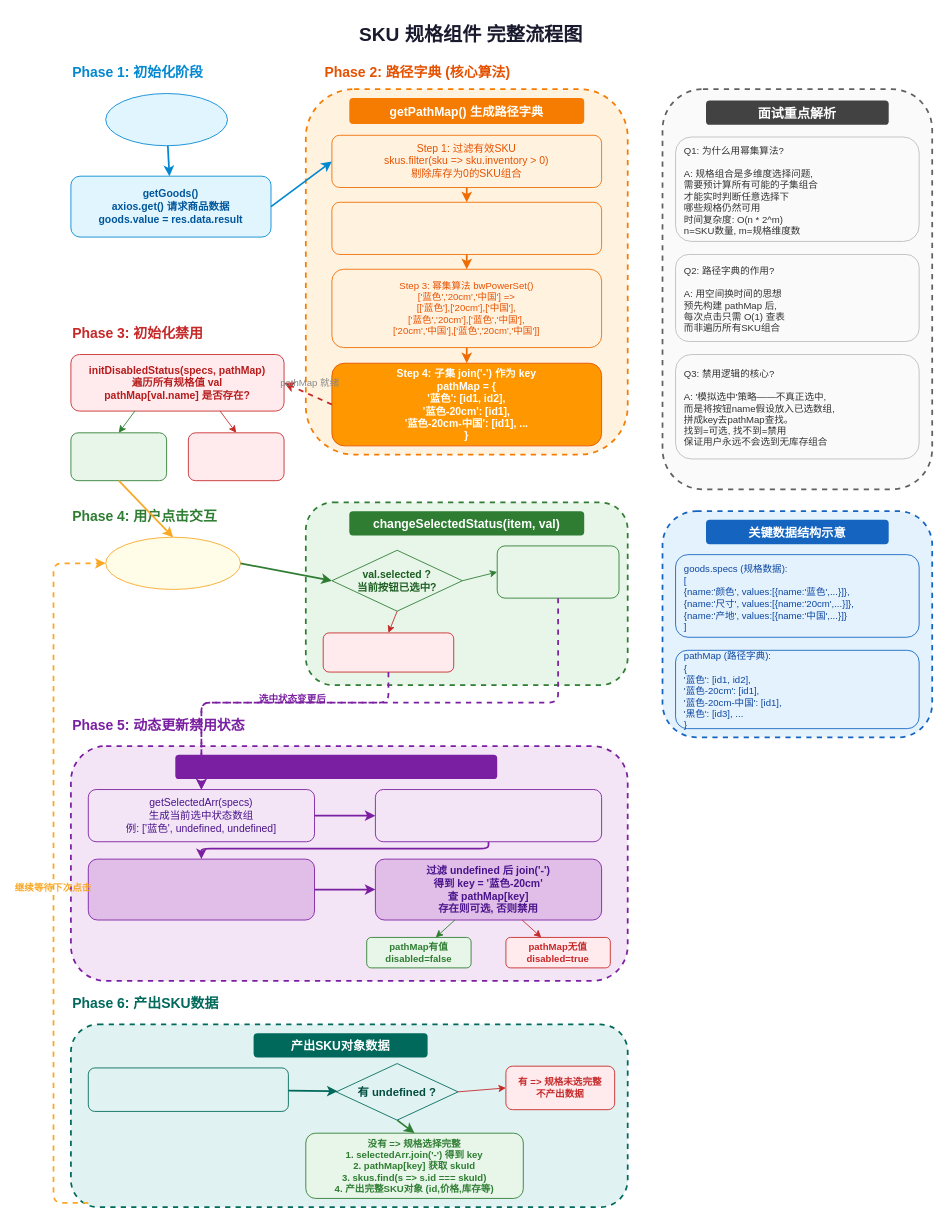
Image size: 947x1225. Some labels were removed from this diagram. The shapes that lost their labels are listed below. From the top down, each one's box as (x1, y1, x2, y2) in pixels, then its label:
(105, 93, 228, 146): onMounted 页面挂载
(331, 201, 602, 254): Step 2: 提取规格值数组 sku.specs.map(s => s.valueName) 例: ['蓝色', '20cm', '中国']
(70, 432, 167, 481): 存在 disabled = false 可点击
(187, 432, 284, 481): 不存在 disabled = true 禁用
(105, 536, 241, 589): 等待用户 点击规格按钮
(496, 545, 619, 598): 否 => 选中当前项 同行其他取消 当前项 selected=true
(322, 632, 454, 672): 是 => 取消选中 val.selected = false
(175, 754, 497, 779): updateDisabledStatus(specs, pathMap)
(375, 789, 602, 842): 遍历每行每个按钮 val 若 val 已选中 => 跳过 若 val 未选中 => 继续检查
(87, 858, 315, 920): '模拟选中' 策略 (核心!) 复制 selectedArr 将当前位置 i 替换为 val.name 例: ['蓝色', '20cm', undefined]
(87, 1067, 288, 1111): getSelectedArr(specs) 检查数组中是否有 undefined
